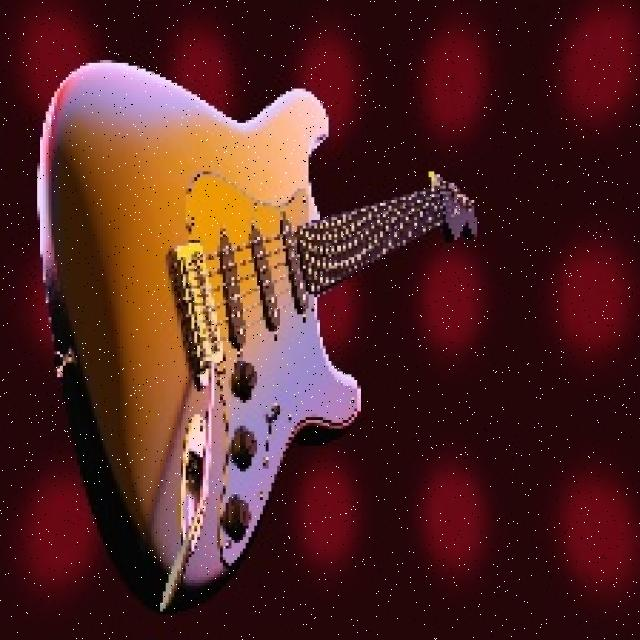guitar: (32, 57, 483, 620)
